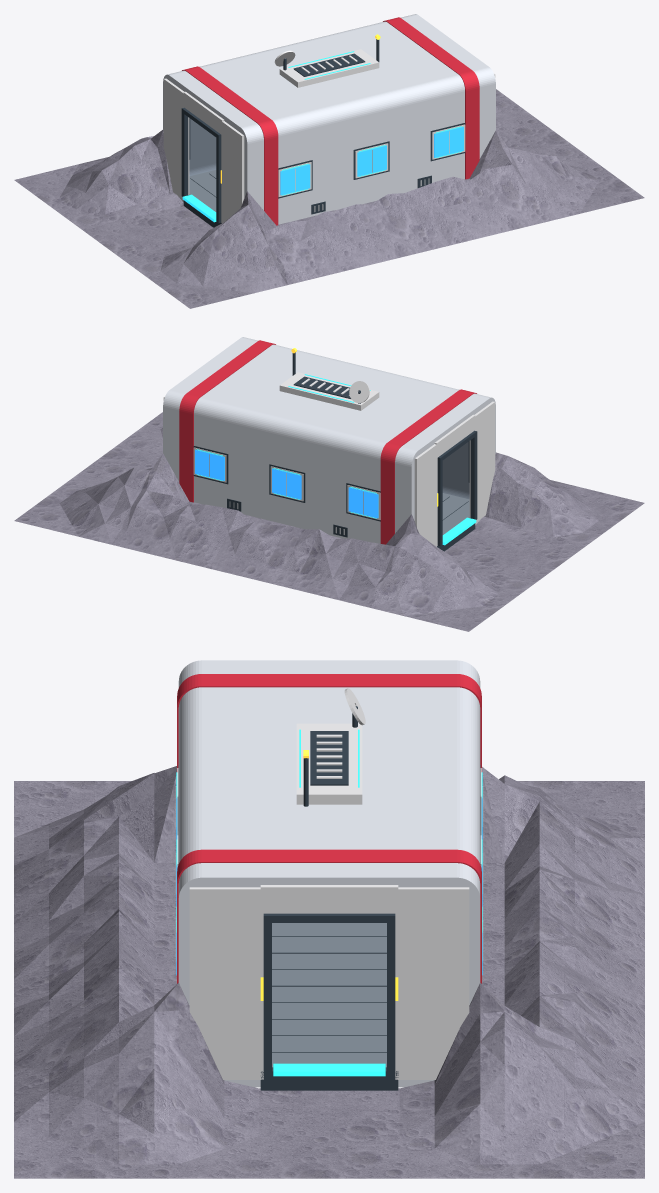
Rendered from habitat_semienterrado_sin_rampas.glb.
3 views of the same model, one above another, from view 1: azimuth 30°, elevation 25°; view 2: azimuth 150°, elevation 25°; view 3: azimuth 270°, elevation 25° (orthographic). The views are drawn at different scales.
Parts seen in each view (by area): view 1: Lunar rock berms (semi-buried terrain), Outer pressure hull, Red circumferential band 8.9, Red circumferential band -8.9, End -1 left bulkhead, End -1 right bulkhead, Roof equipment spine, Interior pressure lining, Continuous walkable interior deck, Window 1 1 smart glass, Window 1 3 smart glass, Window 1 2 smart glass (+4 smaller); view 2: Lunar rock berms (semi-buried terrain), Outer pressure hull, Red circumferential band 8.9, Red circumferential band -8.9, End -1 left bulkhead, End -1 right bulkhead, Interior pressure lining, Roof equipment spine, Continuous walkable interior deck, Window -1 1 smart glass, Window -1 3 smart glass, Window -1 2 smart glass (+4 smaller); view 3: Lunar rock berms (semi-buried terrain), Outer pressure hull, Continuous walkable interior deck, End 1 left bulkhead, End 1 right bulkhead, Red circumferential band 8.9, Red circumferential band -8.9, End 1 upper bulkhead, Roof equipment spine, End 1 lower bulkhead, Roof spine dark inset, Threshold 1 (+3 smaller).
Part boxes in pixels (<box>): Lunar rock berms (semi-buried terrain): <box>14,89,644,308</box>; Outer pressure hull: <box>163,14,495,224</box>; Red circumferential band 8.9: <box>383,17,479,179</box>; Red circumferential band -8.9: <box>182,66,278,225</box>; End -1 left bulkhead: <box>163,78,189,198</box>; End -1 right bulkhead: <box>221,121,244,222</box>; Roof equipment spine: <box>279,49,379,87</box>; Interior pressure lining: <box>189,119,216,176</box>; Continuous walkable interior deck: <box>189,170,216,211</box>; Window 1 1 smart glass: <box>280,164,310,195</box>; Window 1 3 smart glass: <box>434,126,463,157</box>; Window 1 2 smart glass: <box>357,145,386,176</box>; Lunar rock berms (semi-buried terrain): <box>14,412,644,631</box>; Outer pressure hull: <box>163,337,495,543</box>; Red circumferential band 8.9: <box>179,340,275,502</box>; Red circumferential band -8.9: <box>380,389,476,544</box>; End -1 left bulkhead: <box>414,444,437,546</box>; End -1 right bulkhead: <box>469,401,495,521</box>; Interior pressure lining: <box>442,442,469,499</box>; Roof equipment spine: <box>279,372,379,410</box>; Continuous walkable interior deck: <box>442,493,469,534</box>; Window -1 1 smart glass: <box>348,487,378,518</box>; Window -1 3 smart glass: <box>195,449,224,480</box>; Window -1 2 smart glass: <box>272,468,301,499</box>; Lunar rock berms (semi-buried terrain): <box>14,766,644,1178</box>; Outer pressure hull: <box>178,660,480,1087</box>; Continuous walkable interior deck: <box>272,923,386,1067</box>; End 1 left bulkhead: <box>395,887,469,1079</box>; End 1 right bulkhead: <box>189,887,263,1079</box>; Red circumferential band 8.9: <box>177,849,481,983</box>; Red circumferential band -8.9: <box>177,674,481,771</box>; End 1 upper bulkhead: <box>260,885,398,913</box>; Roof equipment spine: <box>296,723,362,804</box>; End 1 lower bulkhead: <box>260,1067,398,1090</box>; Roof spine dark inset: <box>310,731,348,785</box>; Threshold 1: <box>273,1063,385,1076</box>.
Bounding box in the file's own units: 40.25 × 12.56 × 27.
10 materials, 1 textured.
